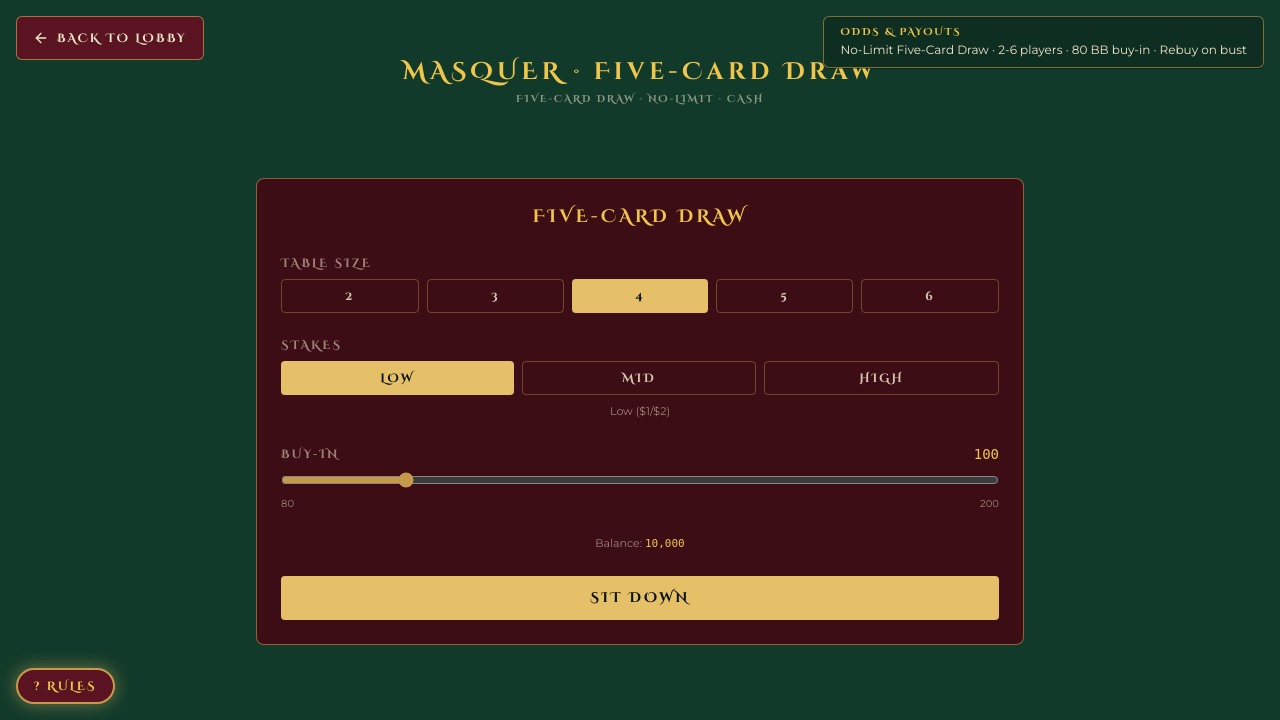
Test: FiveCardDrawPage — gameplay › shows draw controls during draw phase (player turn)
What coordinates should you click on to do the following:
click the button "2"
I would click on:
 (350, 296)
Its box is [281,279,419,313].
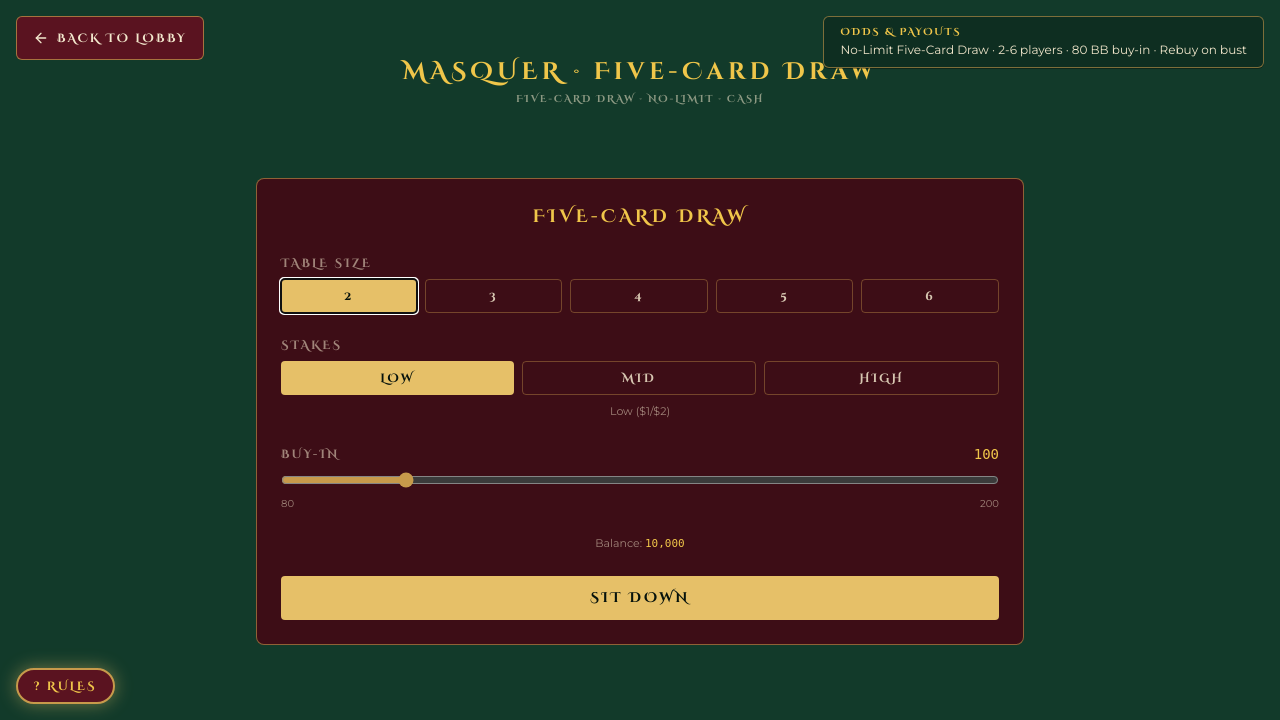
What coordinates should you click on to do the following:
click the button "SIT DOWN"
I would click on:
 (640, 598)
Its box is [281,576,999,620].
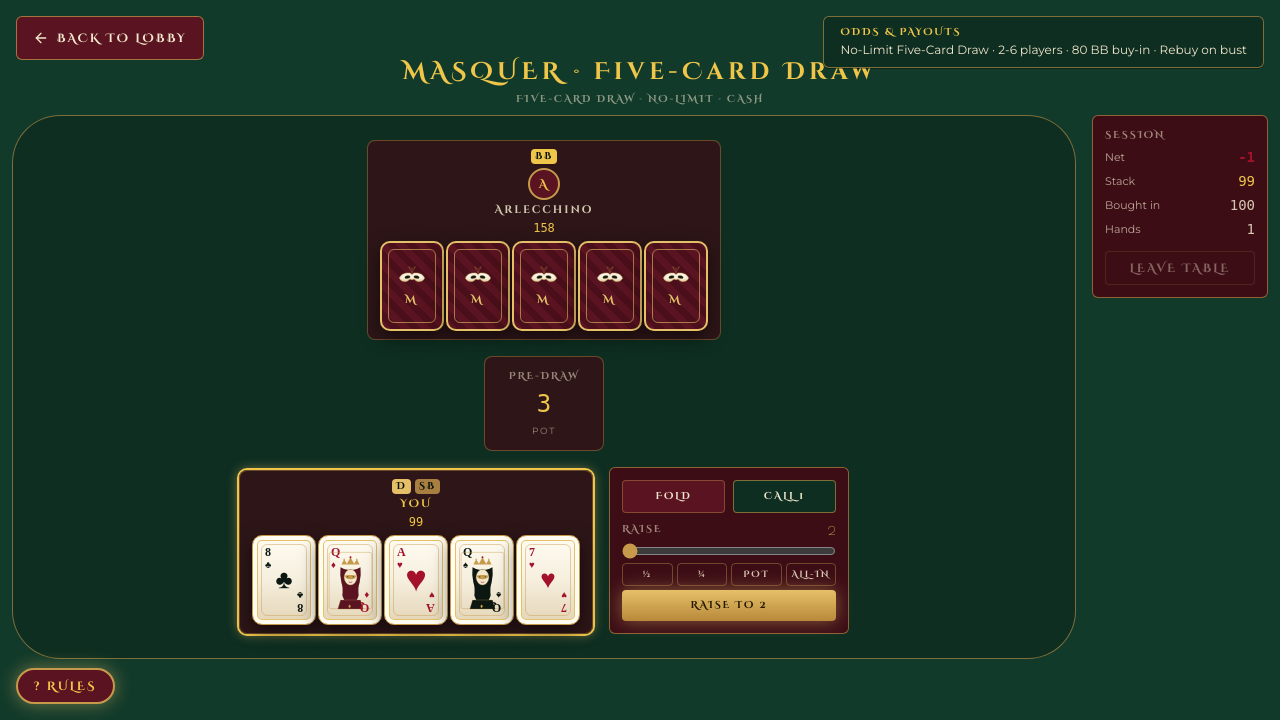
Check: the button "LEAVE TABLE" is shown, box [1105,251,1255,285]
Check: the button "FOLD" is shown, box [622,480,725,512]
